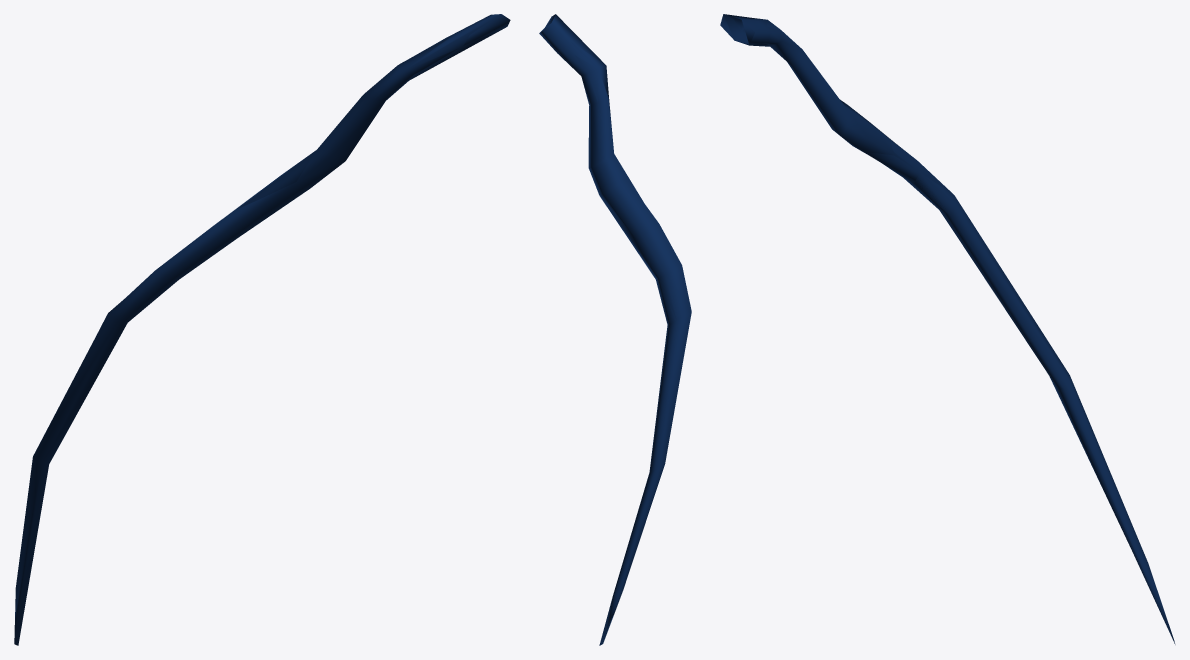
File: R vena cephalica accessoria.fbx
3 renders of one model, left to right at view 1: azimuth 30°, elevation 25°; view 2: azimuth 150°, elevation 25°; view 3: azimuth 270°, elevation 25°, orthographic. The views are drawn at different scales.
Visible parts, largest first — view 1: R vena cephalica accessoria, R vena cephalica accessoria low; view 2: R vena cephalica accessoria, R vena cephalica accessoria low; view 3: R vena cephalica accessoria, R vena cephalica accessoria low.
Boxes of the visible parts, bbox=[...] form: R vena cephalica accessoria: bbox=[14, 14, 510, 645]; R vena cephalica accessoria low: bbox=[33, 15, 505, 460]; R vena cephalica accessoria: bbox=[539, 14, 691, 645]; R vena cephalica accessoria low: bbox=[540, 14, 689, 463]; R vena cephalica accessoria: bbox=[720, 14, 1175, 644]; R vena cephalica accessoria low: bbox=[723, 14, 952, 212].
Size of the model in its own units: 2.96 by 6.2 by 3.3.
